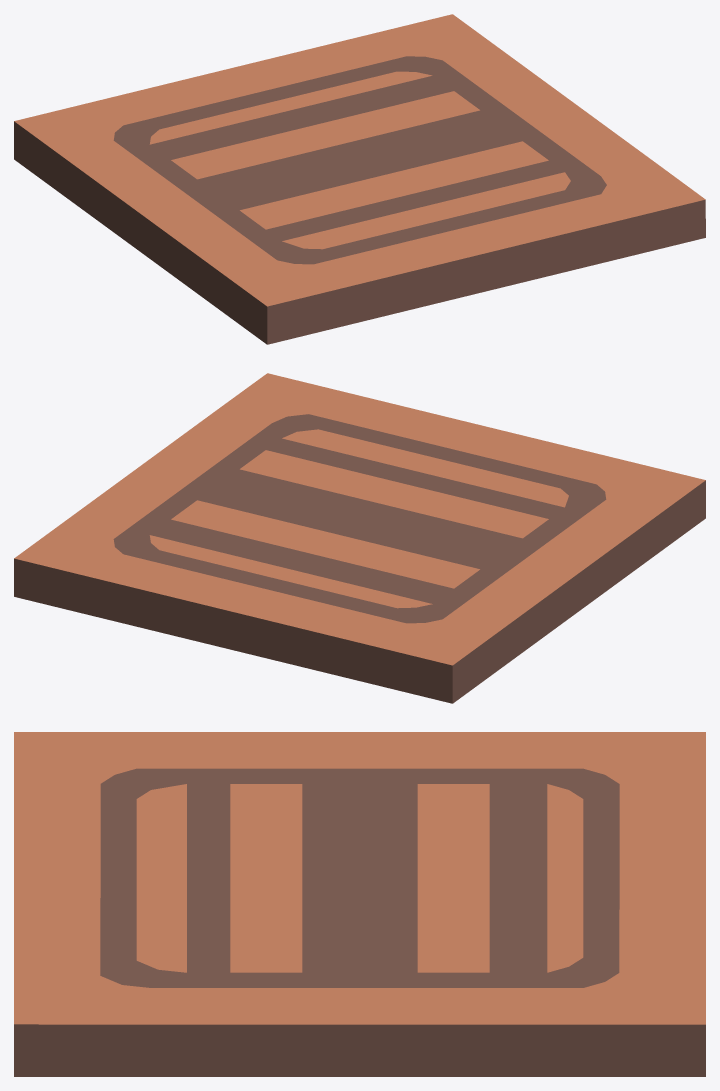
The model's file is Deck_FloorCeiling_02_snaps002.fbx.
3 renders of one model, top to bottom at view 1: azimuth 30°, elevation 25°; view 2: azimuth 150°, elevation 25°; view 3: azimuth 270°, elevation 25°, orthographic. The views are drawn at different scales.
Parts seen in each view (by area): view 1: Deck_FloorCeiling_02_snaps002; view 2: Deck_FloorCeiling_02_snaps002; view 3: Deck_FloorCeiling_02_snaps002.
Part boxes in pixels (x1,y1,x2,y2): Deck_FloorCeiling_02_snaps002: [14, 14, 705, 344]; Deck_FloorCeiling_02_snaps002: [14, 373, 705, 703]; Deck_FloorCeiling_02_snaps002: [14, 732, 705, 1076].
Bounding box in the file's own units: 300 × 25 × 300.
